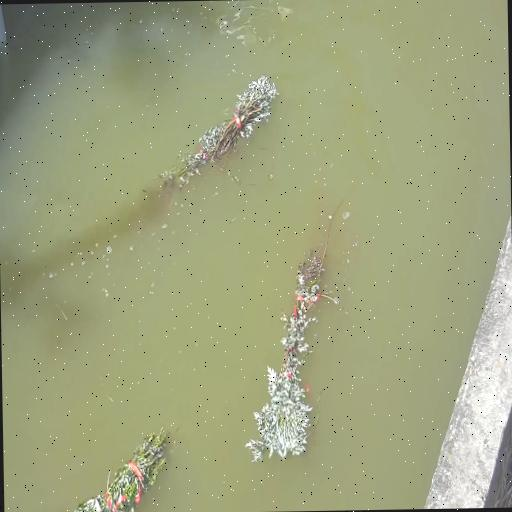twig: (246, 197, 345, 462), (158, 75, 278, 187)
